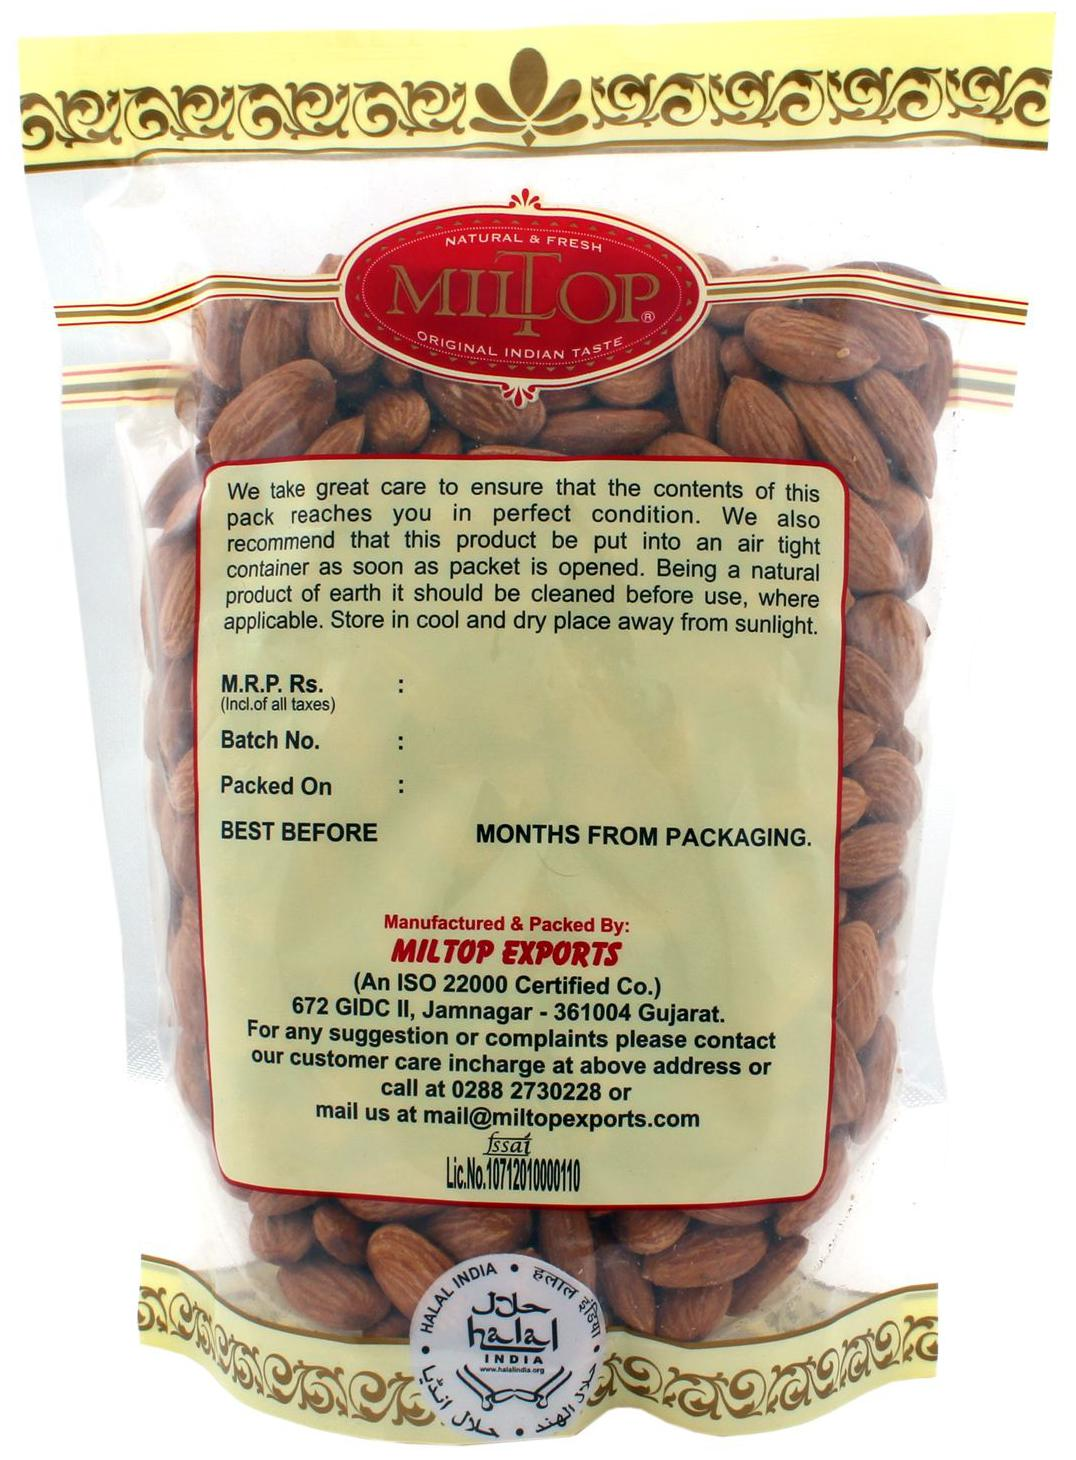fssai: (482, 1130, 535, 1155)
